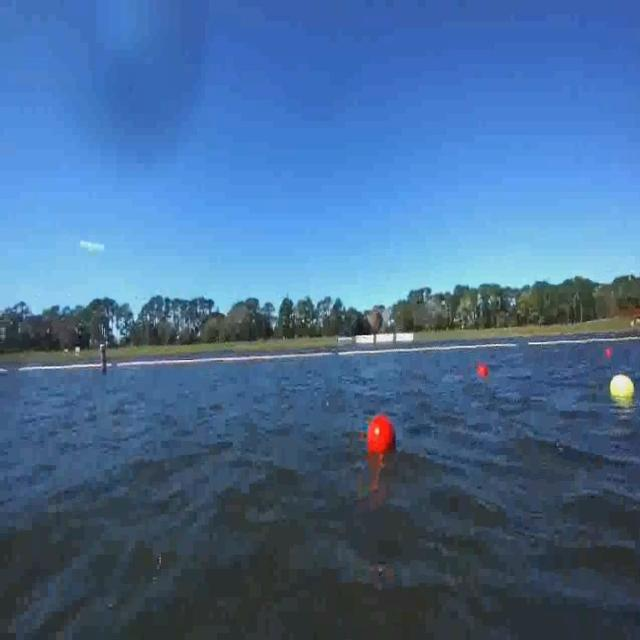red-buoy: (366, 415, 397, 458), (478, 363, 490, 378)
yellow-buoy: (612, 373, 636, 398)
